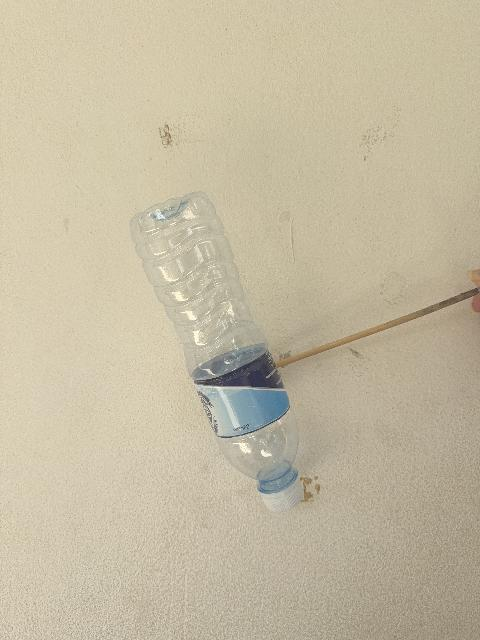bottle: (131, 193, 303, 511)
